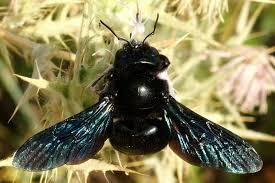Xylocopa: (3, 9, 275, 183)
